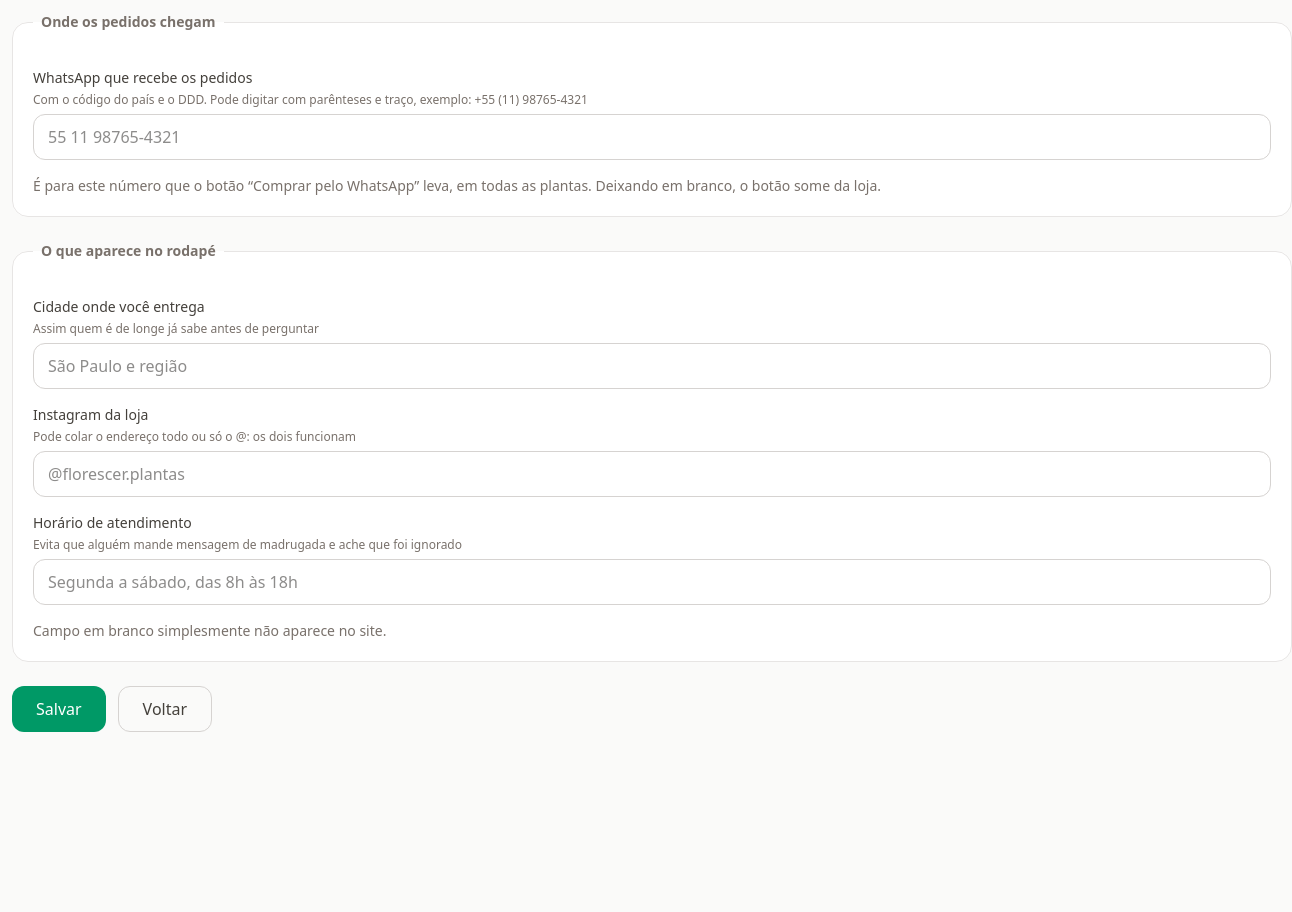
it: quando algo dá errado › mostra o aviso no campo que a API apontou
The width and height of the screenshot is (1292, 912).
Step 1. Type "123" into the field with id "whatsappNumber" → x=652, y=137, box [33,114,1271,160]
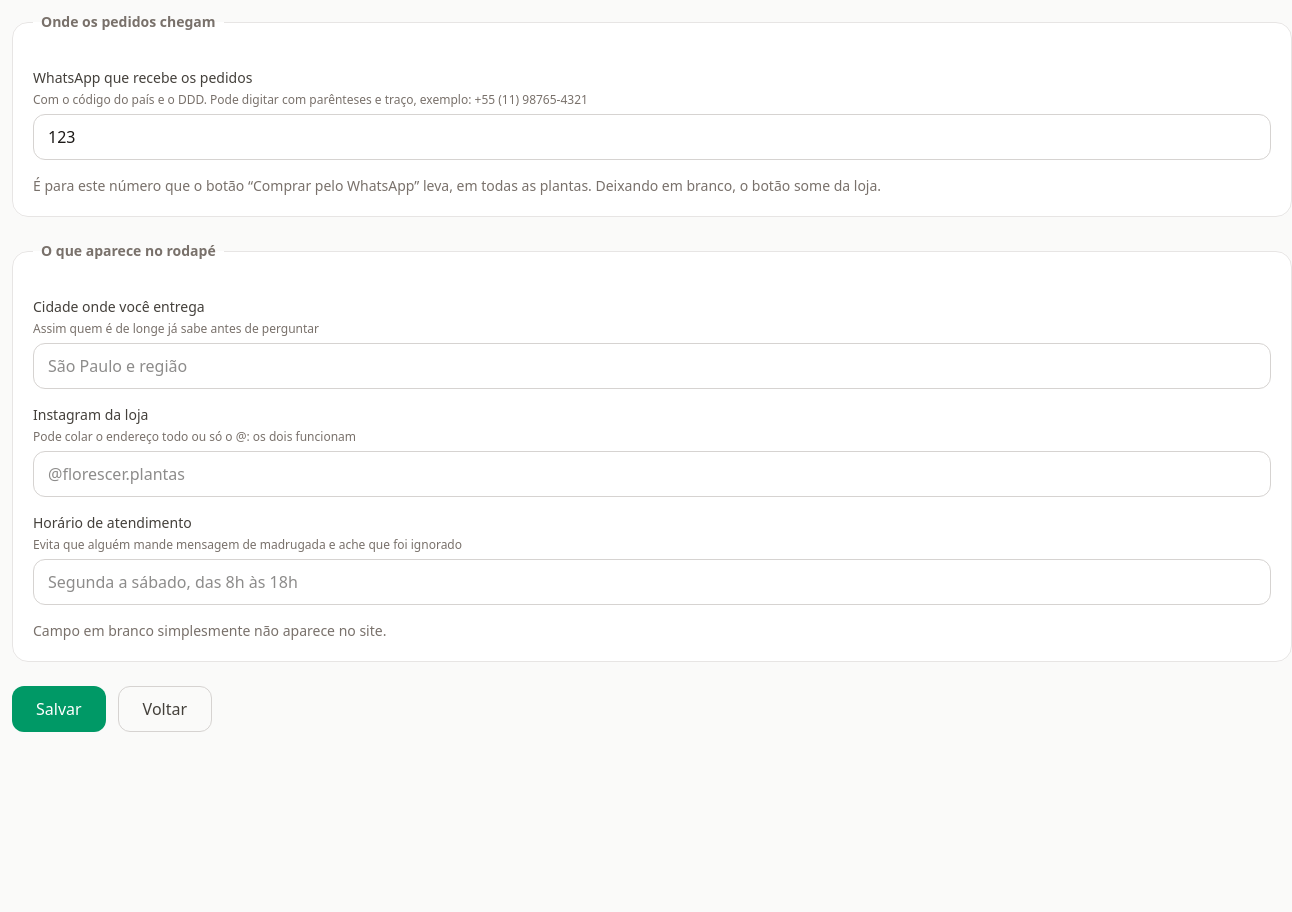
Step 2. Click the button "Salvar" → x=59, y=709, box [12,686,106,732]
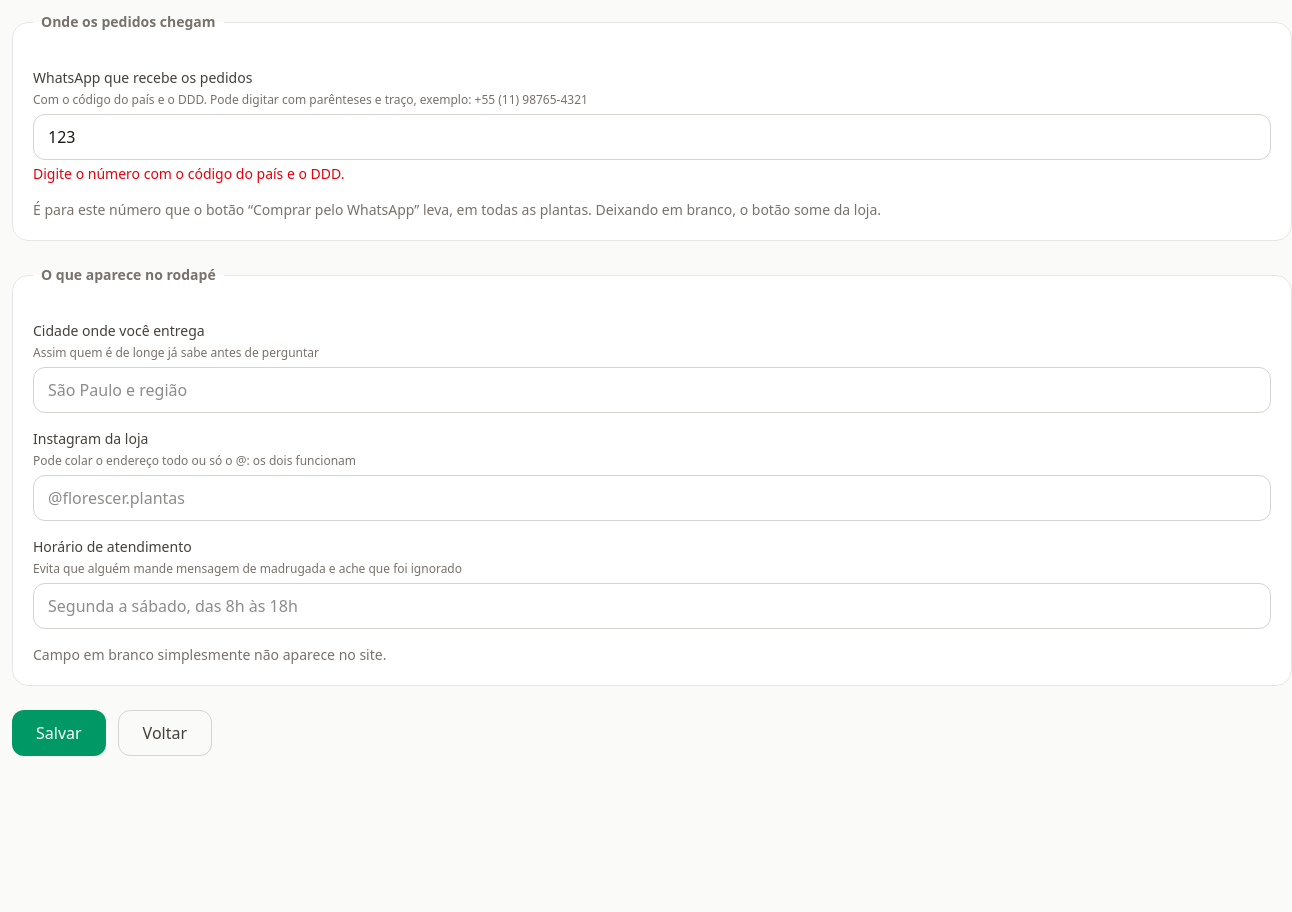
Now the element with id "whatsappNumber" shows "Digite o número", box [33,164,344,183]
